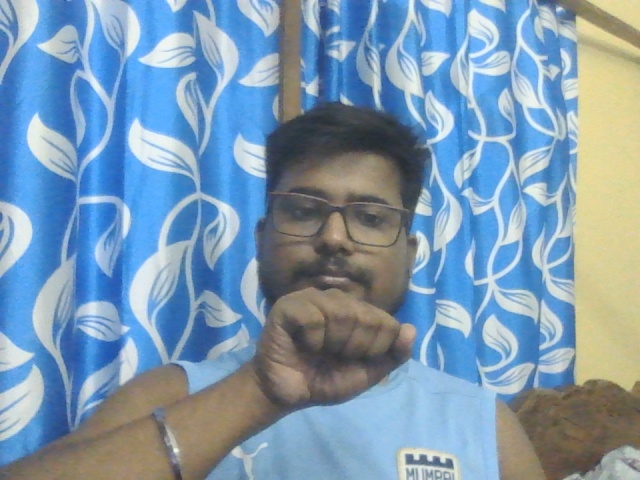A: (258, 288, 416, 407)
